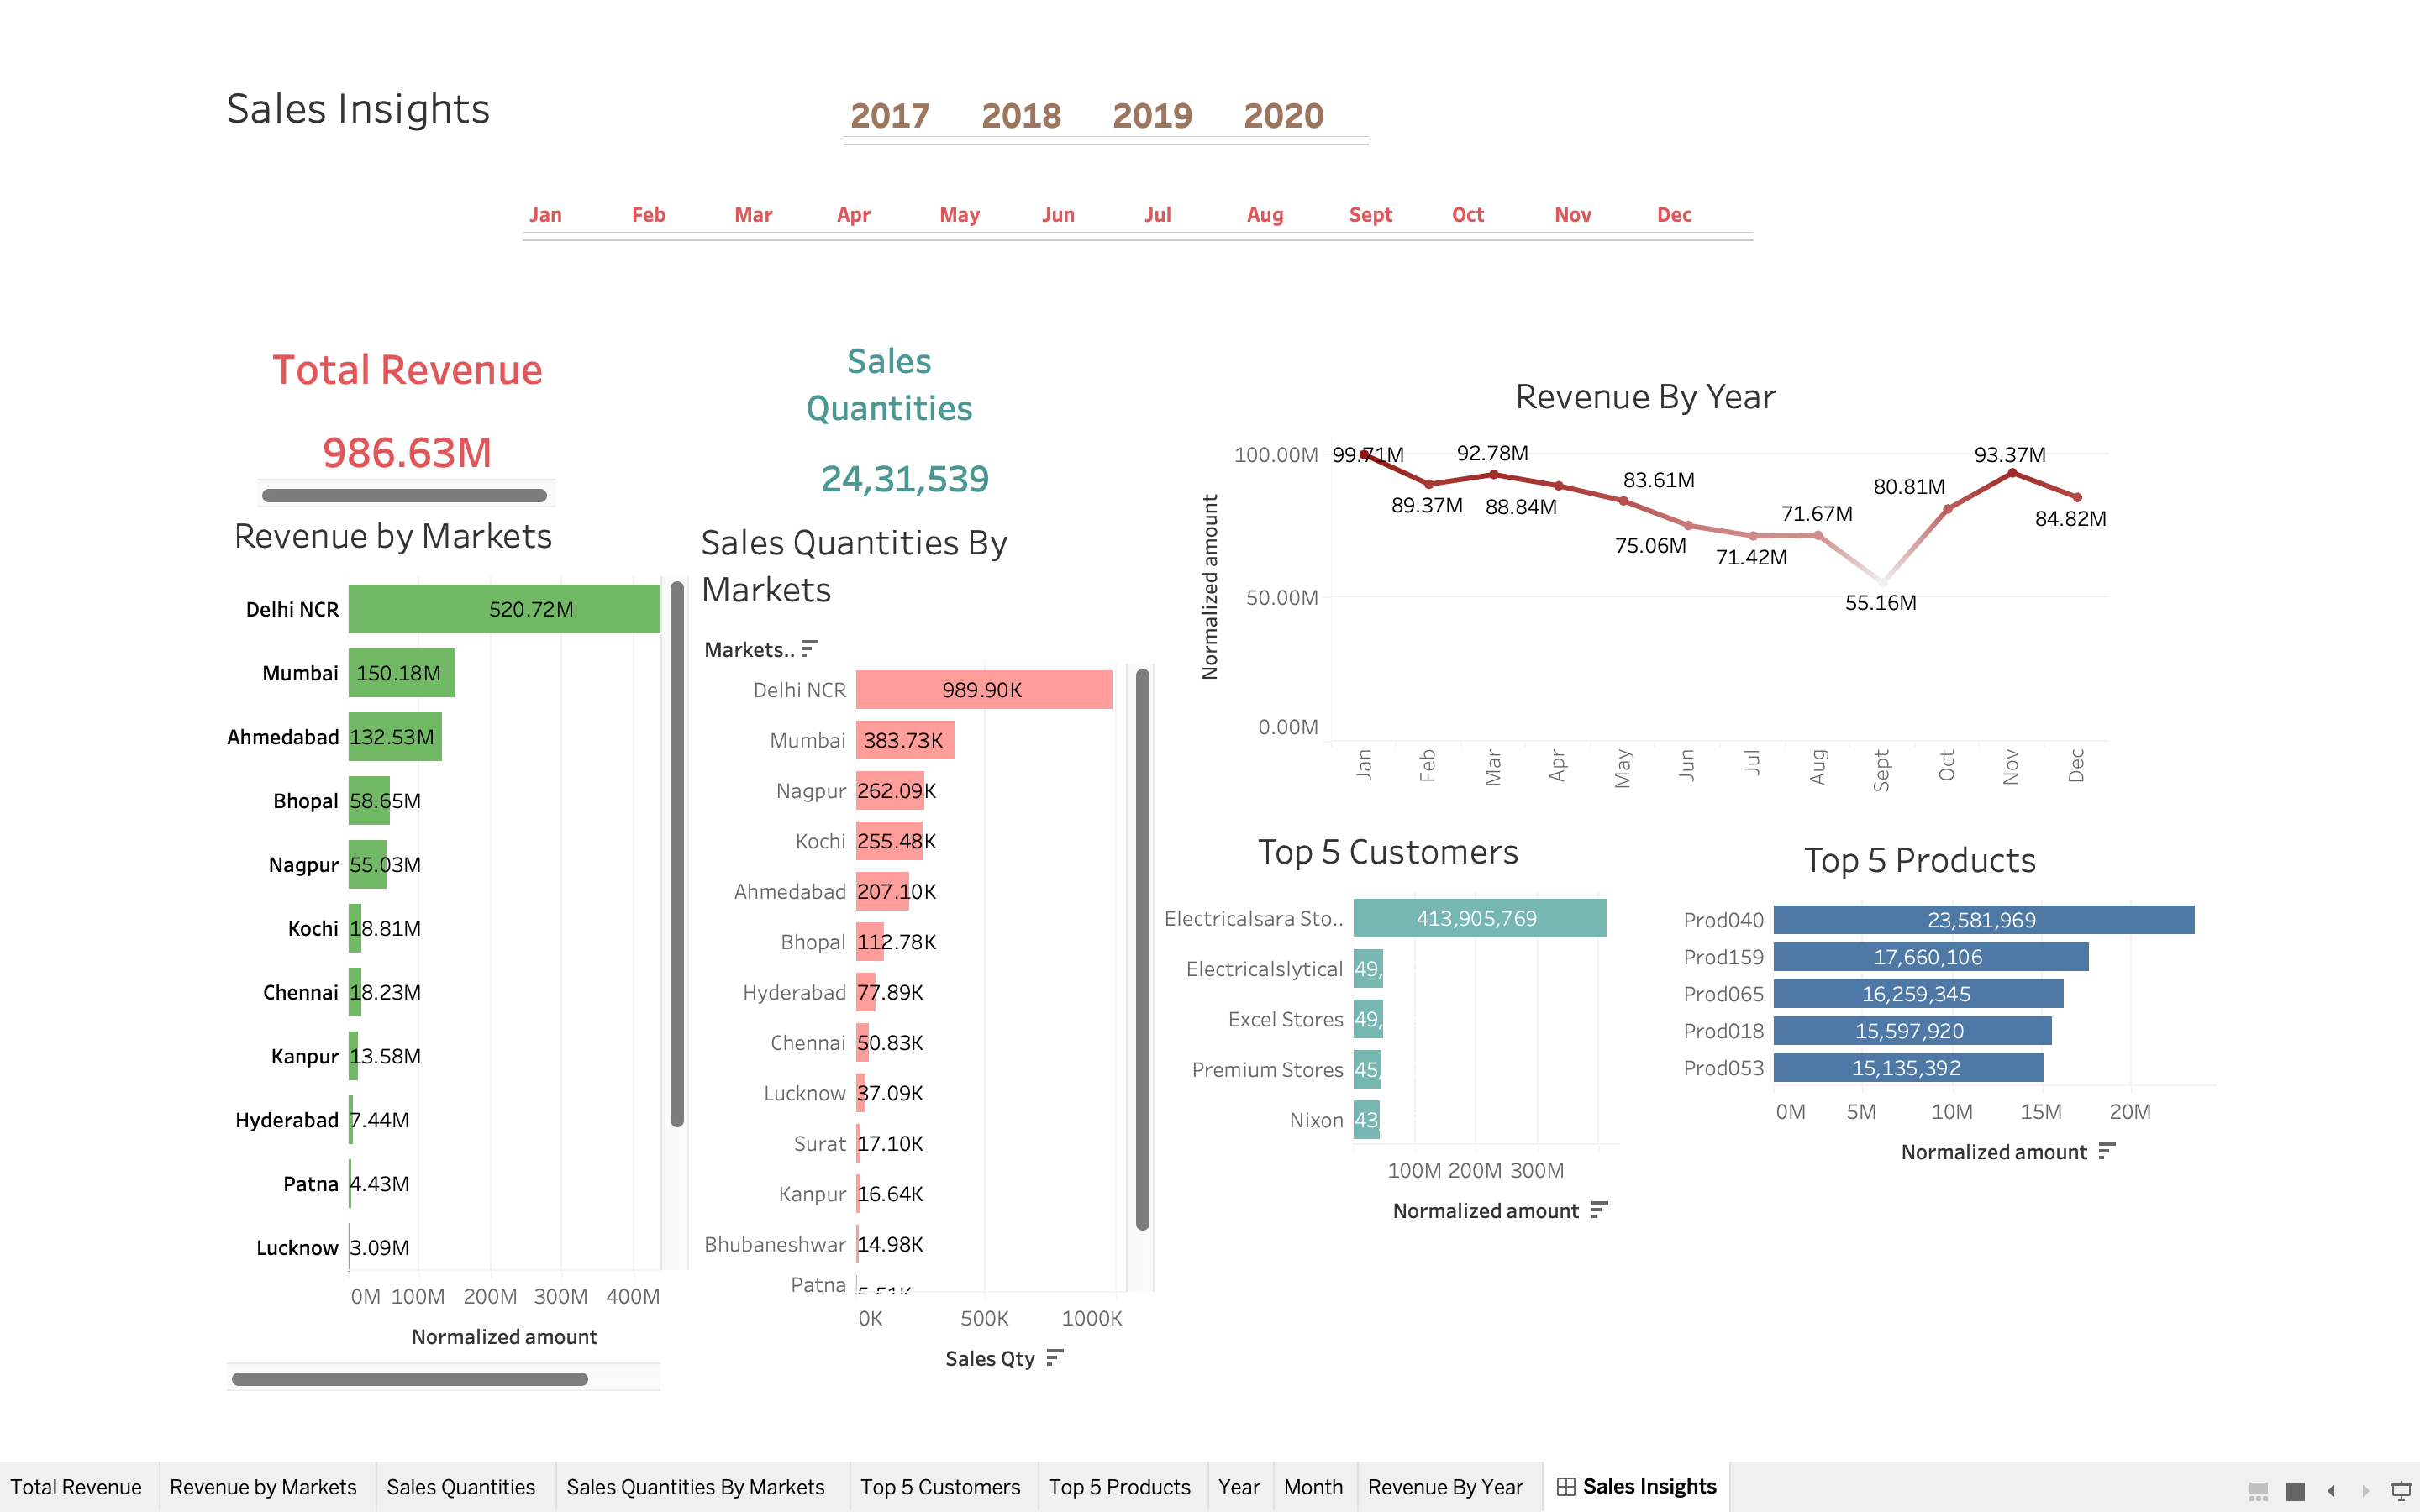

The page's visual inventory and layout, read from the dashboard file:
{"tool":"tableau","page":{"name":"Sales Insights","canvas":[1200,800],"ordinal":0},"visuals":[{"type":"worksheet","title":"Year","mark":"Automatic","cols":["cy_date"],"box":[382,20,373,47]},{"type":"worksheet","title":"Month","mark":"Automatic","cols":["cy_date"],"box":[191,82,746,46]},{"type":"worksheet","title":"Total Revenue","mark":"Automatic","box":[33,136,178,138]},{"type":"worksheet","title":"Sales Quantities","mark":"Text","box":[346,161,172,114]},{"type":"worksheet","title":"Revenue By Year","mark":"Automatic","rows":["Calculation_2588866100076048384"],"cols":["cy_date"],"box":[584,182,551,264]},{"type":"worksheet","title":"Revenue by Markets","mark":"Automatic","rows":["markets_name"],"cols":["Calculation_2588866100076048384"],"box":[15,265,275,528]},{"type":"worksheet","title":"Sales Quantities By Markets","mark":"Automatic","rows":["markets_name"],"cols":["sales_qty"],"box":[293,269,274,520]},{"type":"worksheet","title":"Top 5 Customers","mark":"Automatic","rows":["custmer_name"],"cols":["Calculation_2588866100076048384"],"box":[569,453,275,269]},{"type":"worksheet","title":"Top 5 Products","mark":"Automatic","rows":["product_code (products)"],"cols":["Calculation_2588866100076048384"],"box":[847,458,352,235]}]}

Visuals, with their boxes on the page's 1200x800 design canvas (x1, y1, x2, y2). These are canvas units, not pixel positions in the 2420x1512 screenshot, which may show the page scaled, cropped or inside an application window:
"Year" worksheet: <box>382,20,755,67</box>
"Month" worksheet: <box>191,82,937,128</box>
"Total Revenue" worksheet: <box>33,136,211,274</box>
"Sales Quantities" worksheet (Text marks): <box>346,161,518,275</box>
"Revenue By Year" worksheet: <box>584,182,1135,446</box>
"Revenue by Markets" worksheet: <box>15,265,290,793</box>
"Sales Quantities By Markets" worksheet: <box>293,269,567,789</box>
"Top 5 Customers" worksheet: <box>569,453,844,722</box>
"Top 5 Products" worksheet: <box>847,458,1199,693</box>
